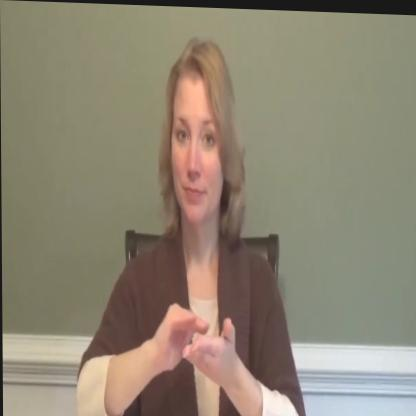ExcuseMe: (75, 32, 305, 416)
